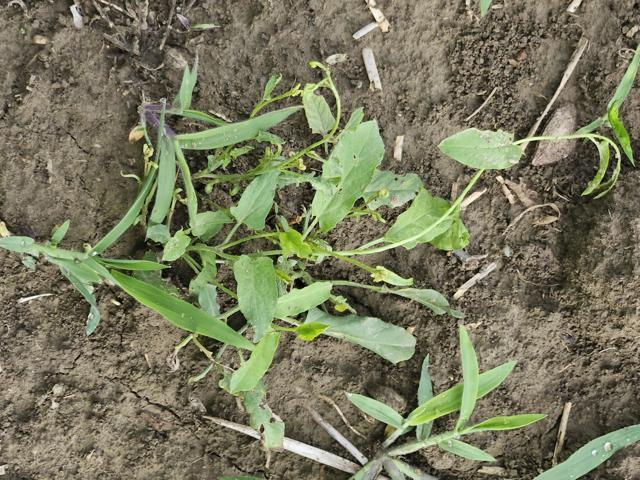bad weed: (43, 35, 595, 473)
